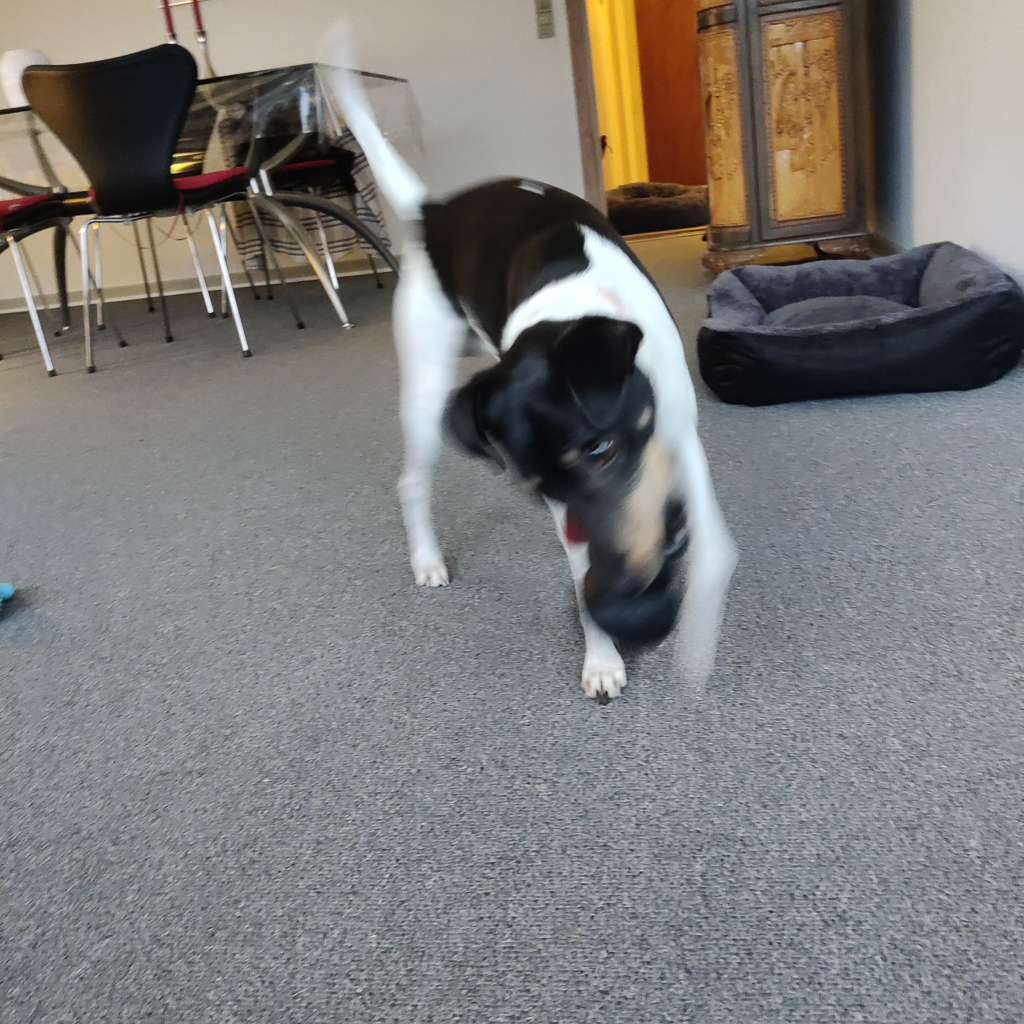Dog: (296, 7, 772, 759)
